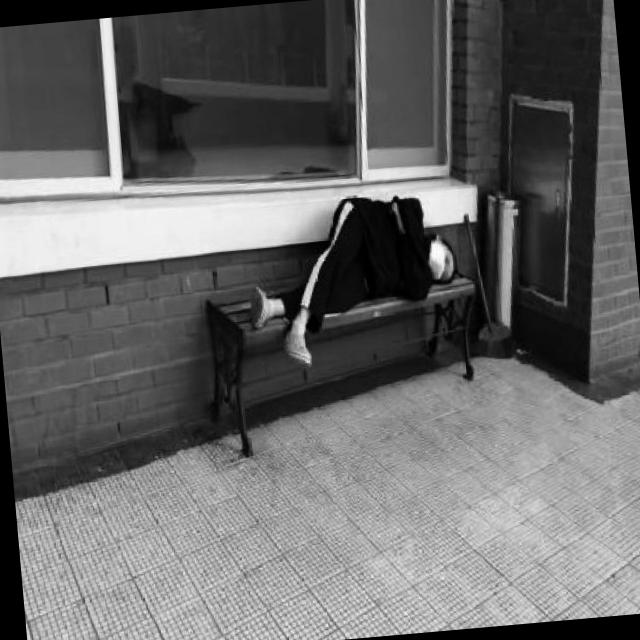person: (242, 190, 463, 368)
